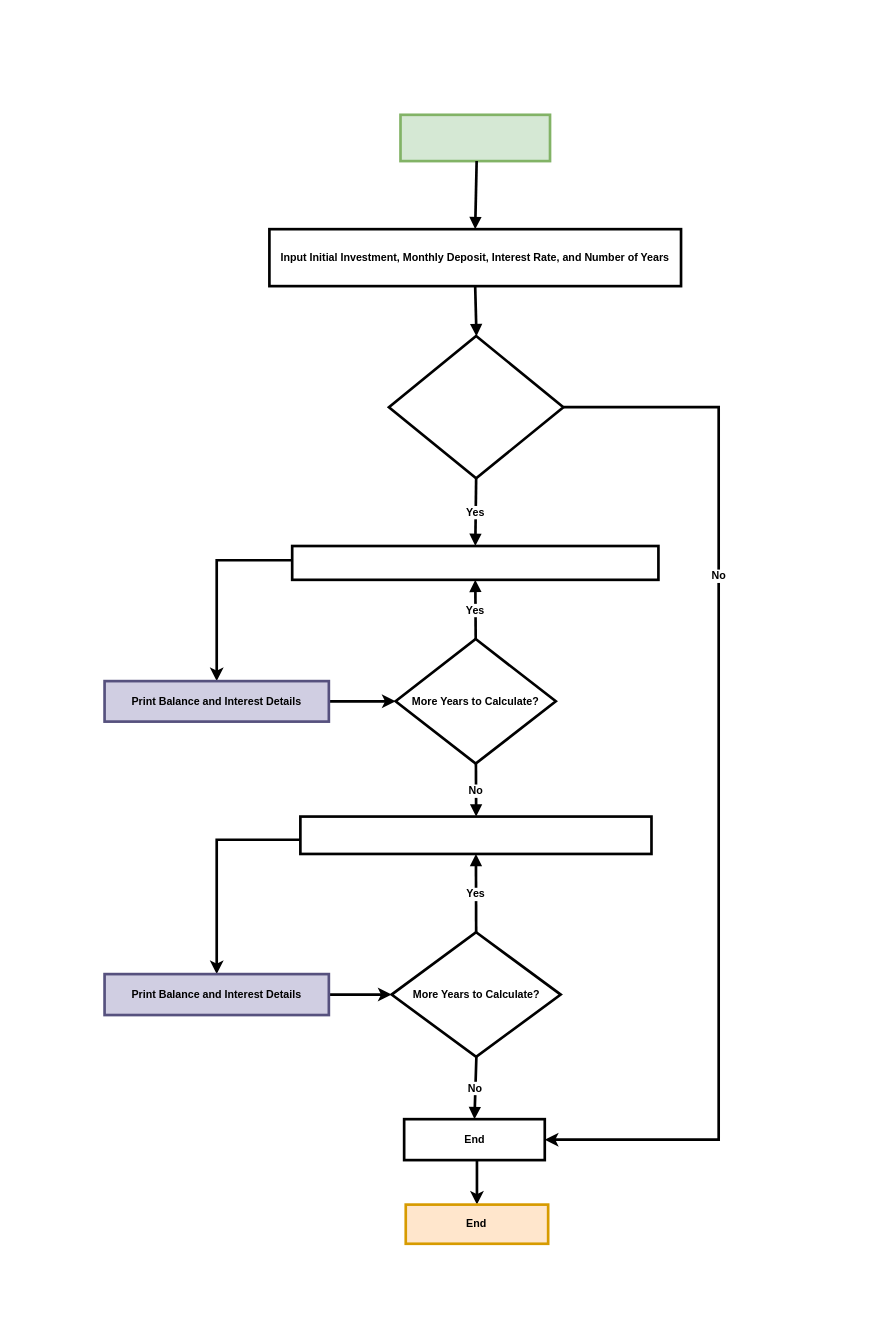
The diagram is 886 pixels wide and 1322 high, and some of its shapes have lost their labels. The centre of each missing label's shape, as x and y in pixels:
"Calculate Balance and Interest With Additional Monthly Deposits" goes at (475,835).
"Calculate Balance and Interest Without Additional Monthly Deposits" goes at (474,562).
"Press any key to continue?" goes at (475,406).
"Start" goes at (475,137).
